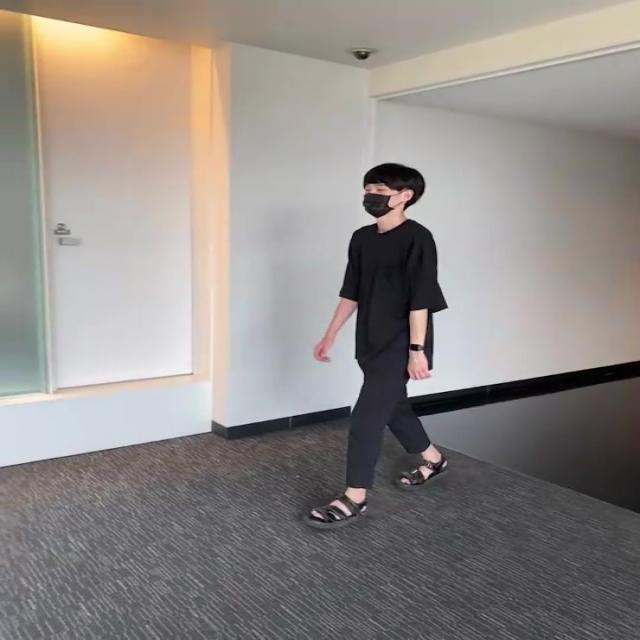direk: (306, 158, 456, 534)
